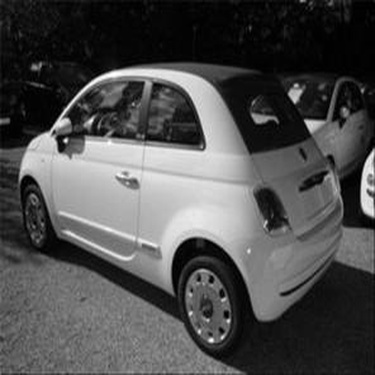car: (15, 52, 353, 362), (248, 64, 371, 195), (336, 140, 373, 237)
